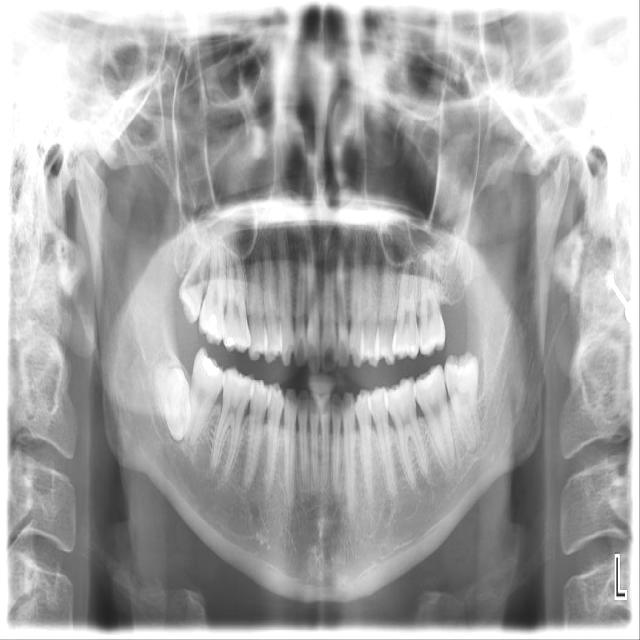Filling: (202, 357, 220, 375), (224, 333, 240, 349)
impacted tooth: (444, 351, 483, 454), (151, 359, 190, 439)
